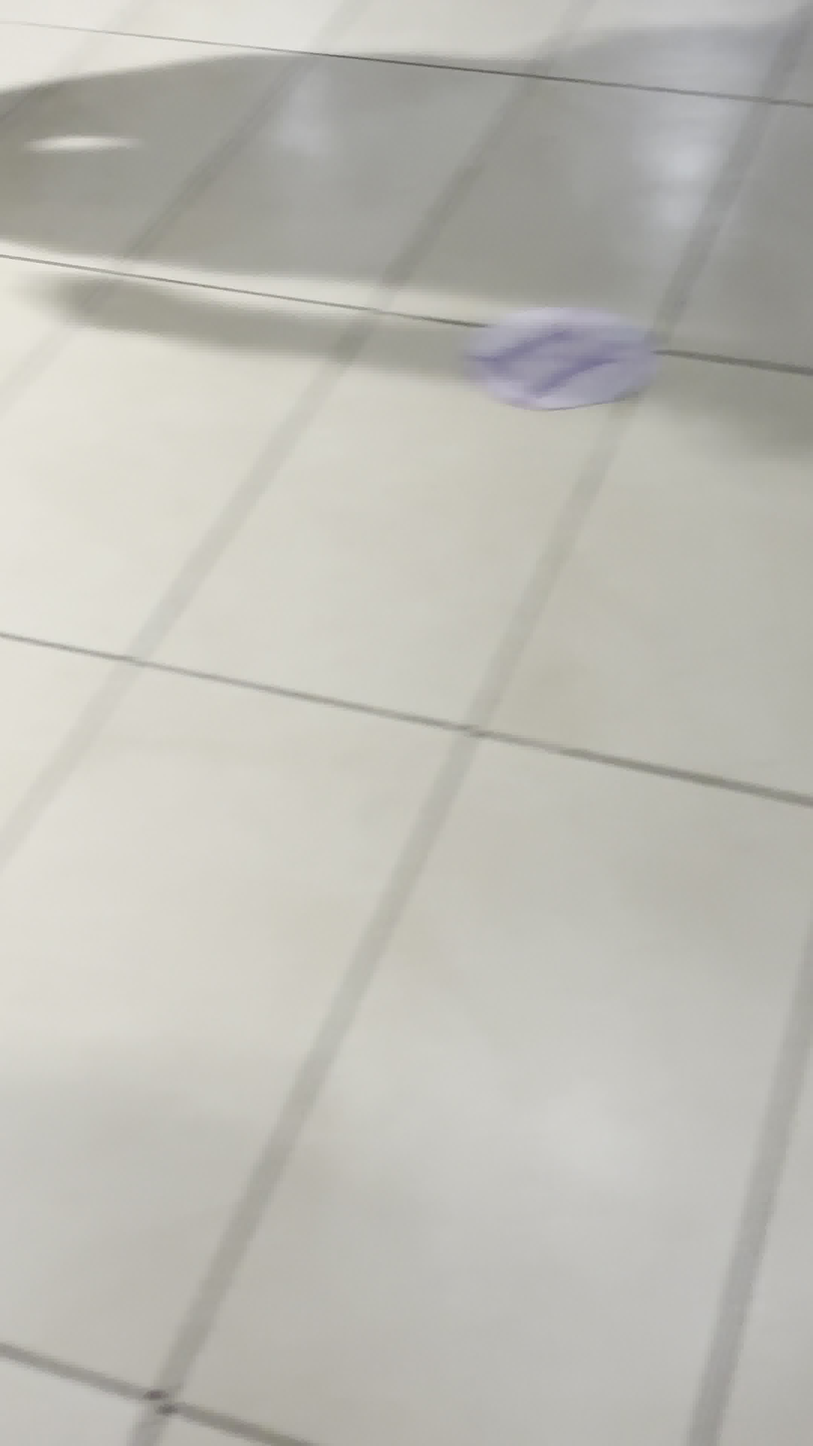Target: (467, 309, 653, 409)
